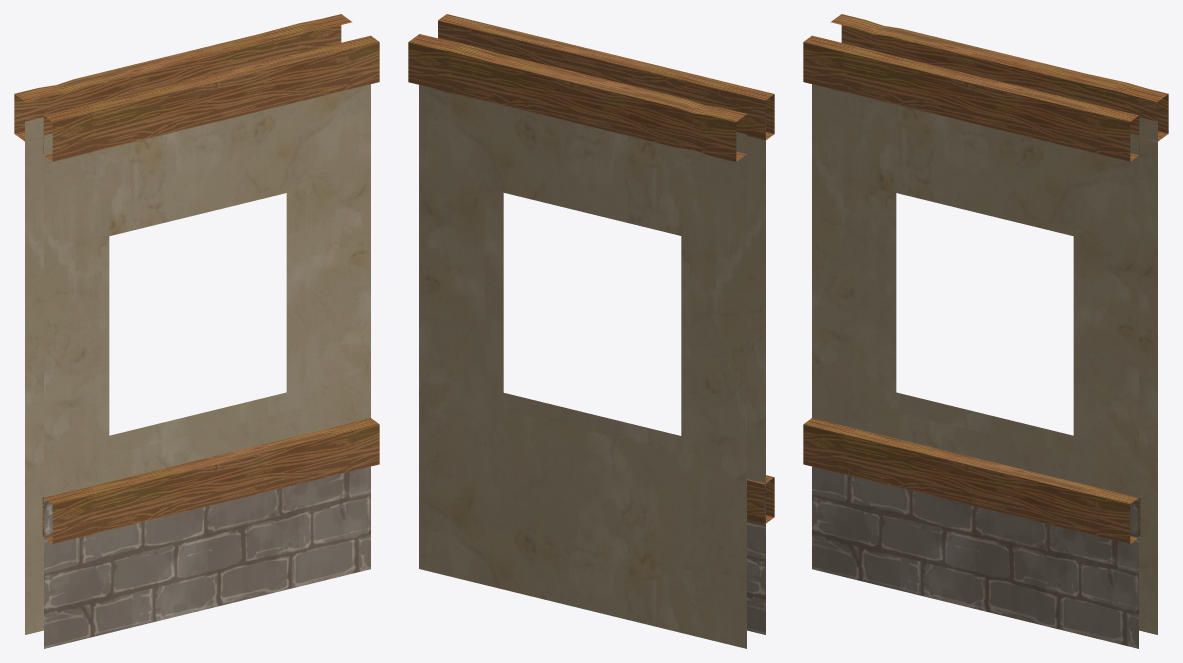
File: Wall_Plaster_Window_Wide_Flat.glb
3 views of the same model, side by side, from view 1: azimuth 30°, elevation 25°; view 2: azimuth 150°, elevation 25°; view 3: azimuth 330°, elevation 25° (orthographic).
Parts seen in each view (by area): view 1: Wall_Plaster_Window_Wide_Flat; view 2: Wall_Plaster_Window_Wide_Flat; view 3: Wall_Plaster_Window_Wide_Flat.
Part boxes in pixels (x1,y1,x2,y2): Wall_Plaster_Window_Wide_Flat: (14, 14, 379, 648); Wall_Plaster_Window_Wide_Flat: (408, 14, 774, 648); Wall_Plaster_Window_Wide_Flat: (803, 14, 1168, 648).
Size of the model in its own units: 2 by 3.12 by 0.4065.
3 materials, 3 textured.
